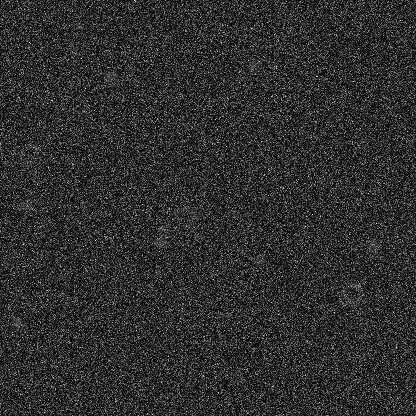Ring: (174, 203, 198, 227), (340, 281, 364, 305), (16, 141, 40, 165)
Spot: (251, 252, 267, 268), (102, 67, 118, 83), (344, 372, 360, 388), (365, 238, 381, 254), (68, 15, 84, 31), (109, 336, 125, 352), (20, 10, 36, 26), (8, 314, 24, 330), (360, 134, 376, 150), (18, 197, 34, 213), (196, 283, 212, 299), (151, 233, 167, 249), (154, 220, 170, 236), (245, 57, 261, 73)
